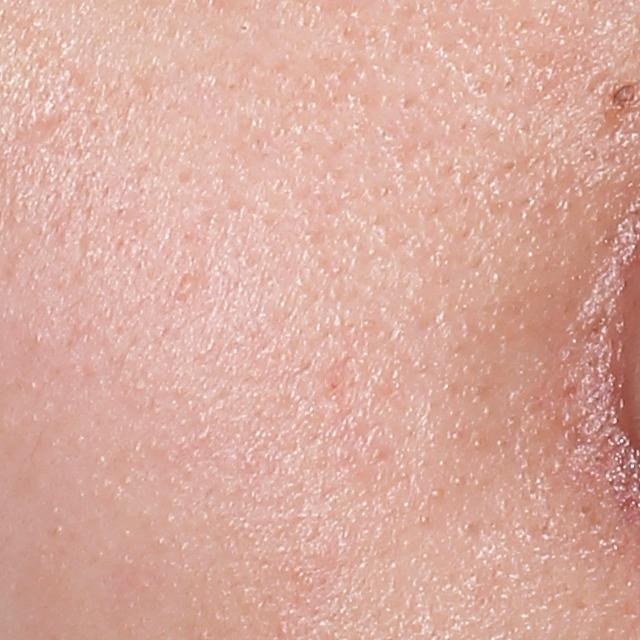comedo: (177, 275, 199, 296), (498, 156, 519, 173)
